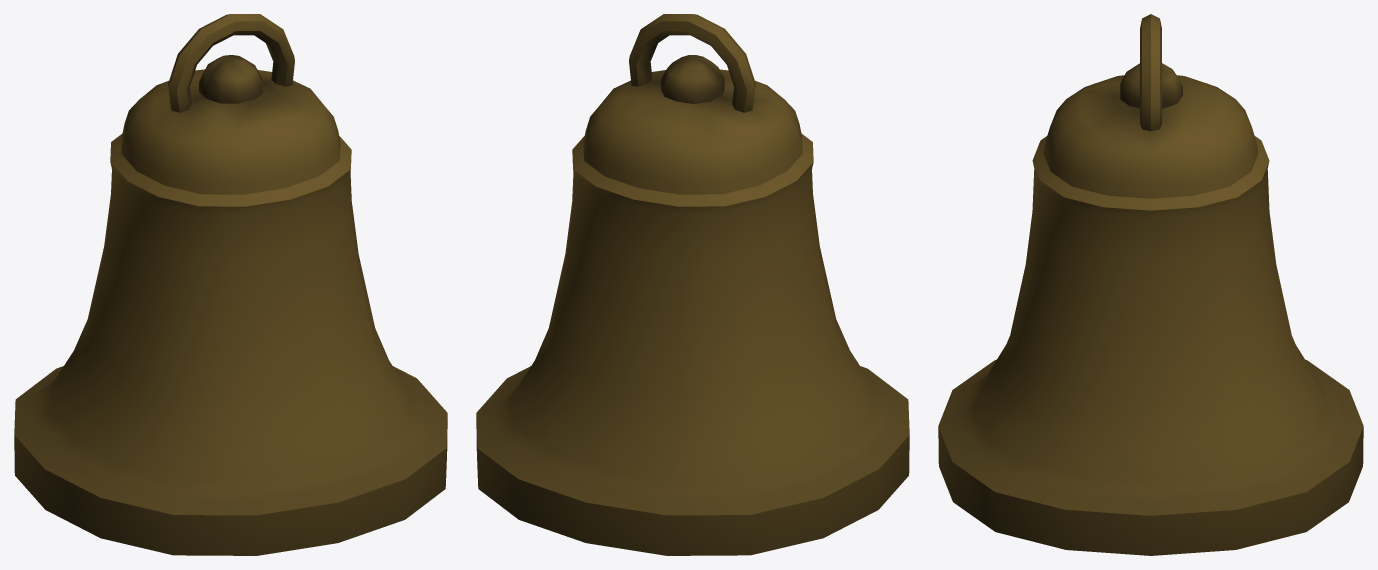
The model's file is pq_cloche.glb.
3 views of the same model, side by side, from view 1: azimuth 30°, elevation 25°; view 2: azimuth 150°, elevation 25°; view 3: azimuth 270°, elevation 25° (orthographic).
Parts seen in each view (by area): view 1: Bell; view 2: Bell; view 3: Bell.
Boxes of the visible parts, x1,y1,x2,y2 form: Bell: [14, 14, 447, 555]; Bell: [476, 14, 909, 555]; Bell: [938, 14, 1363, 555].
Bounding box in the file's own units: 0.5186 × 0.6 × 0.5186.
